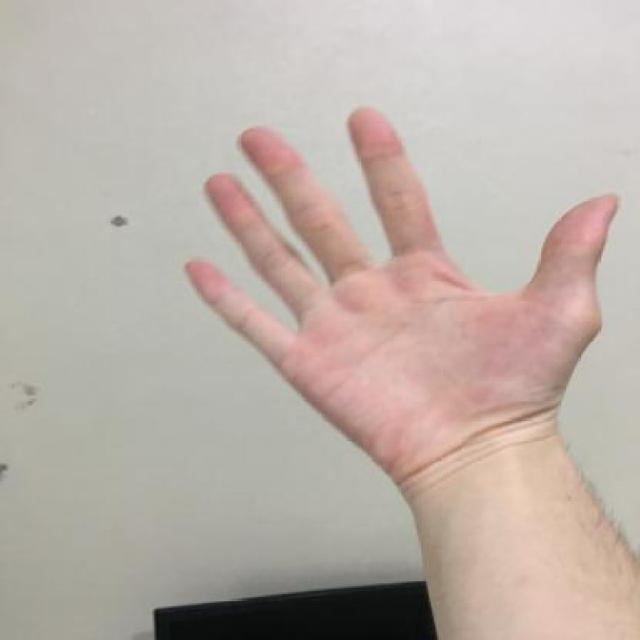Hand: (177, 104, 624, 539)
